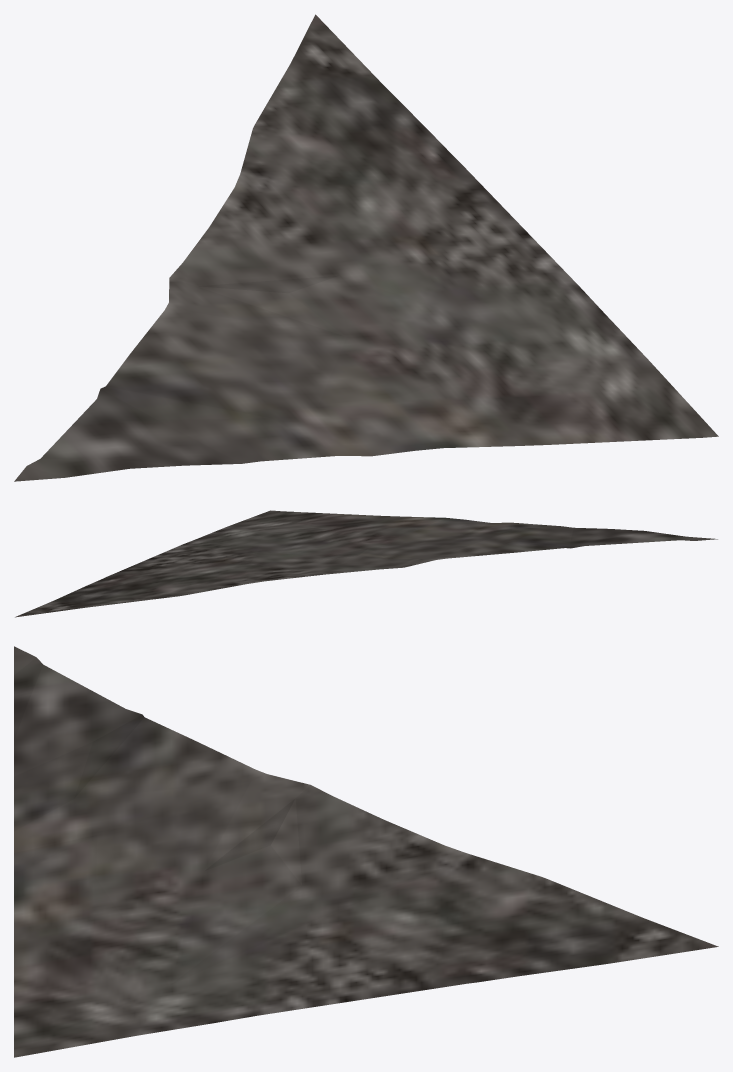
The picture shows the model from 3 angles, top to bottom: view 1: azimuth 30°, elevation 25°; view 2: azimuth 150°, elevation 25°; view 3: azimuth 270°, elevation 25°; orthographic projection. The views are drawn at different scales.
Size of the model in its own units: 0.4153 by 0.0715 by 0.4117.
Materials: 1 (1 with a texture image).
